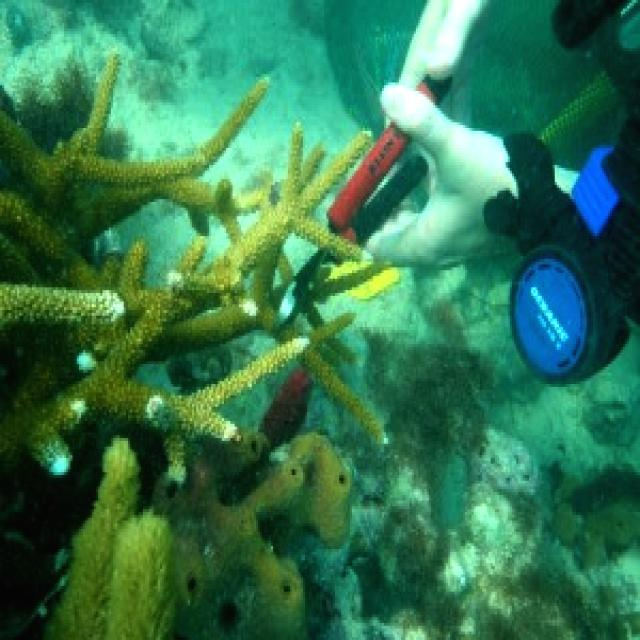Coral: (0, 49, 393, 484), (45, 434, 178, 640)
